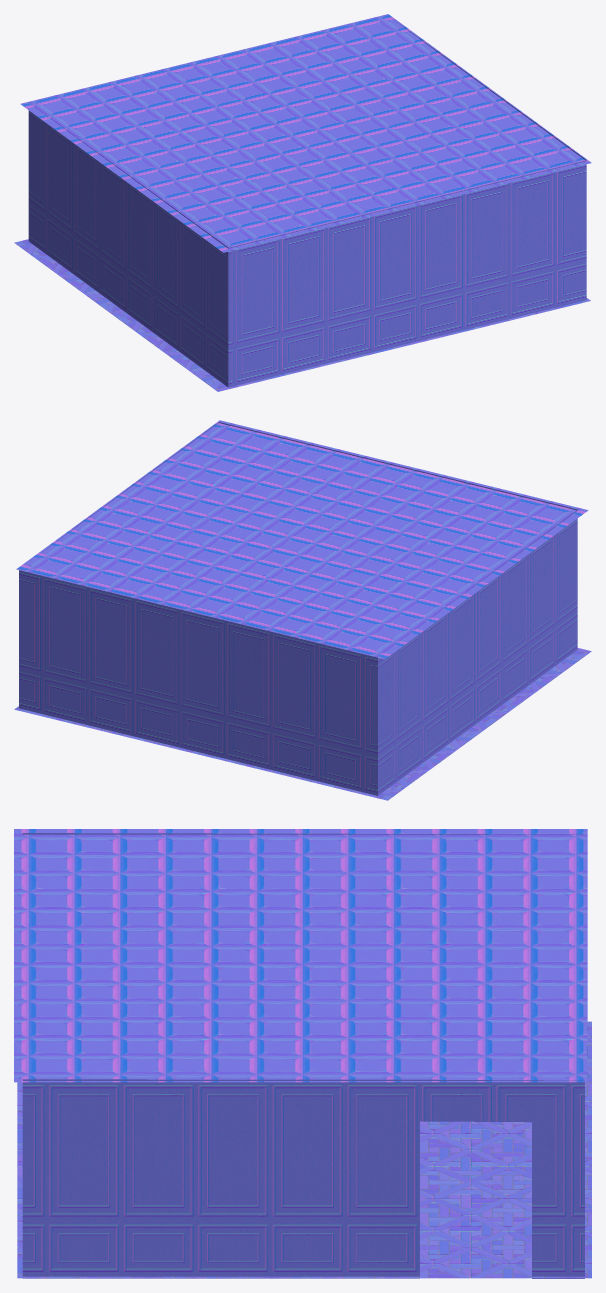
File: starting_room.obj
3 renders of one model, top to bottom at view 1: azimuth 30°, elevation 25°; view 2: azimuth 150°, elevation 25°; view 3: azimuth 270°, elevation 25°, orthographic. The views are drawn at different scales.
Parts seen in each view (by area): view 1: Cube.002; view 2: Cube.002; view 3: Cube.002.
Part boxes in pixels (box(x1,y1,x2,y2)): Cube.002: box(14, 14, 591, 391); Cube.002: box(14, 420, 591, 800); Cube.002: box(14, 829, 591, 1278).
Size of the model in its own units: 8.44 by 3.06 by 8.03.
